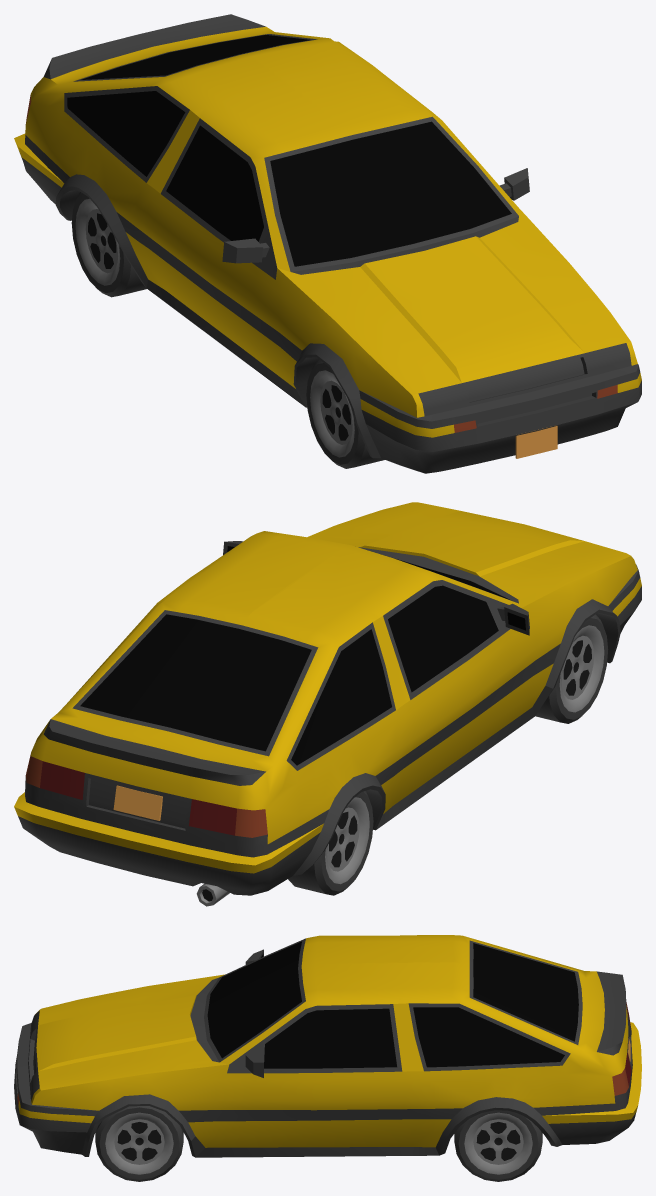
Rendered from Toro86.fbx.
3 views of the same model, one above another, from view 1: azimuth 30°, elevation 25°; view 2: azimuth 150°, elevation 25°; view 3: azimuth 270°, elevation 25° (orthographic). The views are drawn at different scales.
Visible parts, largest first — view 1: Body, Wheel-FR, Wheel-RR; view 2: Body, Wheel-FR, Wheel-RR; view 3: Body, Wheel-FL, Wheel-RL.
Part boxes in pixels (x1,y1,x2,y2): Body: (14, 14, 641, 473); Wheel-FR: (306, 359, 384, 468); Wheel-RR: (71, 192, 146, 297); Body: (14, 502, 641, 906); Wheel-FR: (535, 614, 608, 723); Wheel-RR: (288, 791, 373, 895); Body: (14, 935, 641, 1157); Wheel-FL: (95, 1106, 183, 1181); Wheel-RL: (454, 1110, 542, 1181).
Size of the model in its own units: 1.86 by 1.33 by 4.31.
